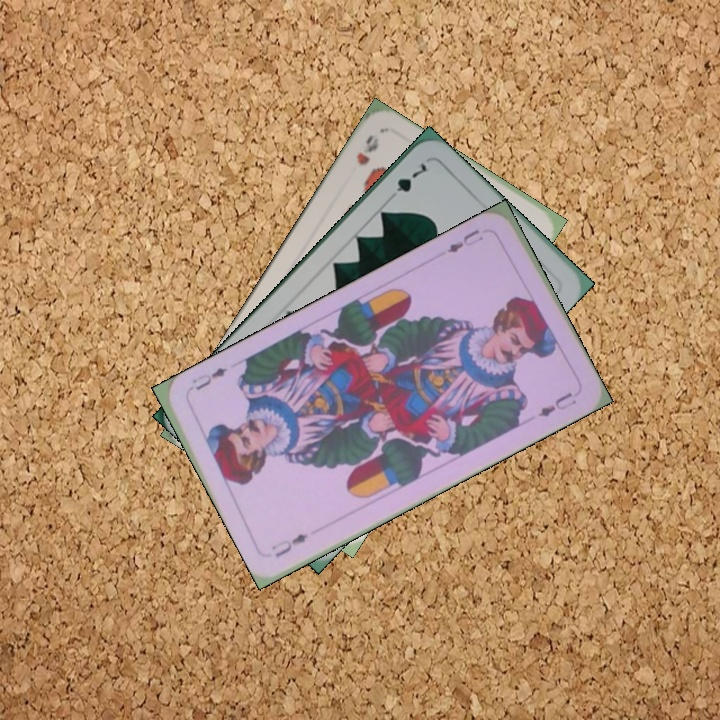EU: (443, 225, 486, 256), (268, 529, 311, 560)
G7: (385, 158, 430, 204)
H9: (352, 131, 382, 168)
